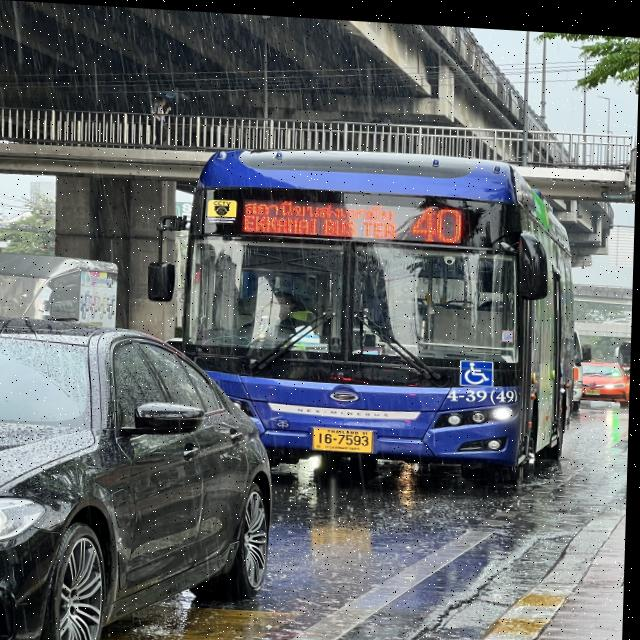Bus Line Number: (411, 196, 469, 242)
Bus Side Number: (448, 378, 521, 402)
Destination Sign: (239, 192, 402, 236)
TSB-Bus: (183, 147, 585, 471)
